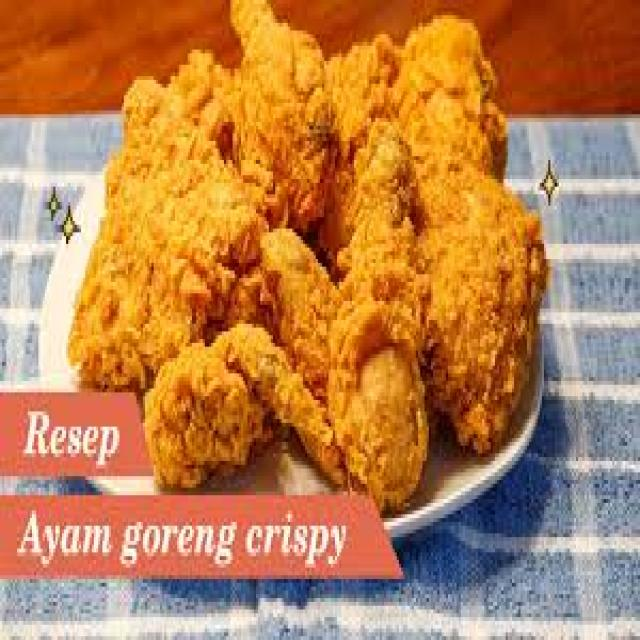ayam_goreng: (70, 0, 552, 506), (412, 36, 533, 430), (90, 94, 254, 369), (334, 120, 424, 500)
